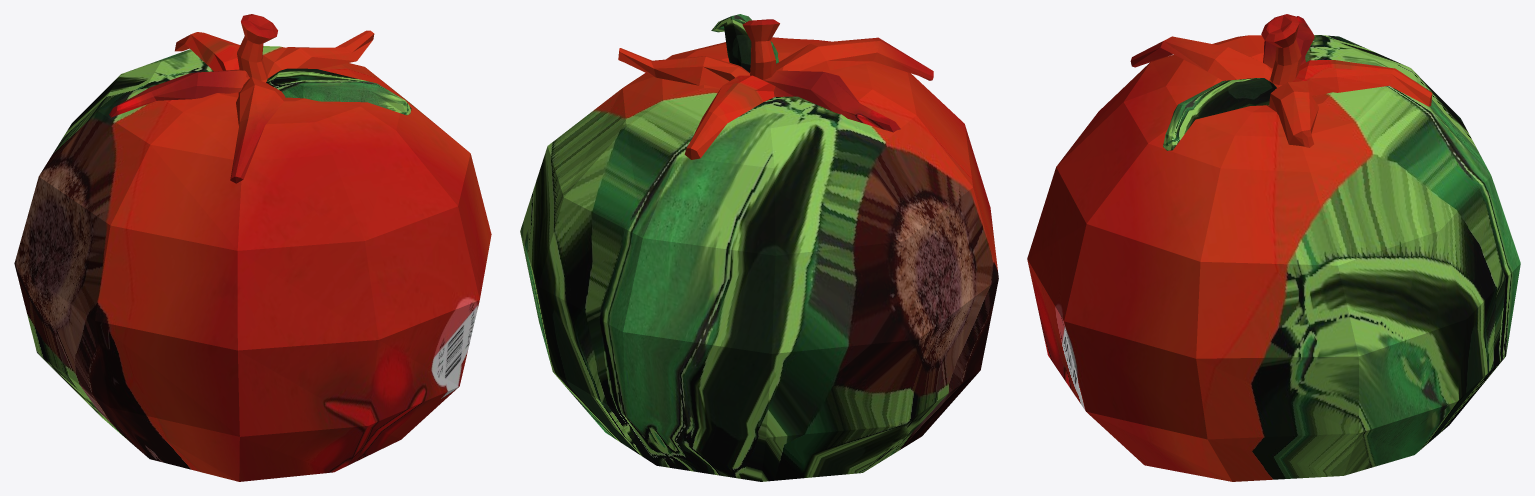
The model's file is tomato.obj.
3 renders of one model, left to right at view 1: azimuth 30°, elevation 25°; view 2: azimuth 150°, elevation 25°; view 3: azimuth 270°, elevation 25°, orthographic. The views are drawn at different scales.
Size of the model in its own units: 0.0805 by 0.08 by 0.0841.
Materials: 1 (1 with a texture image).
